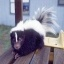skunk: (10, 6, 56, 55)
